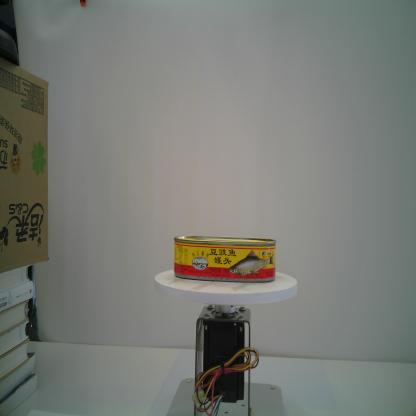Canned Food: (173, 234, 277, 283)
